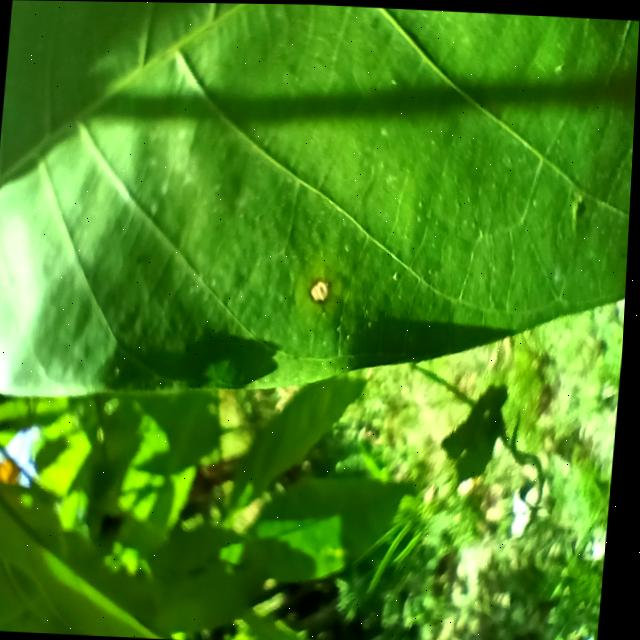Colletotrichum: (309, 277, 333, 302)
